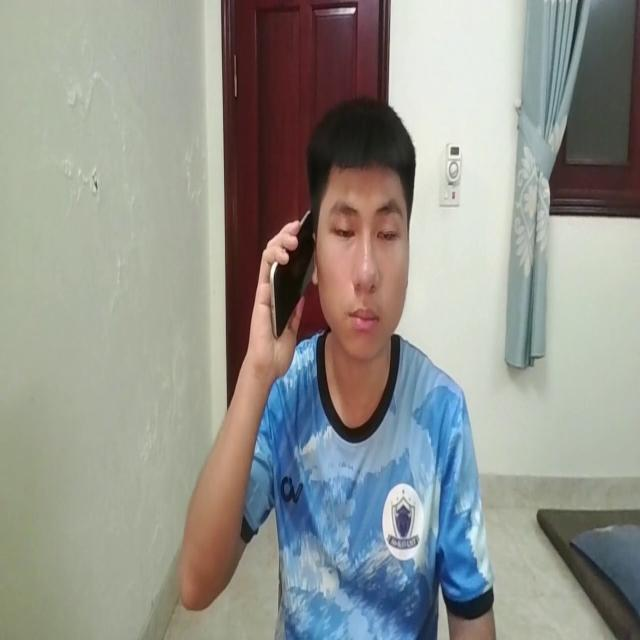phone: (264, 199, 316, 335)
student: (172, 95, 498, 640)
